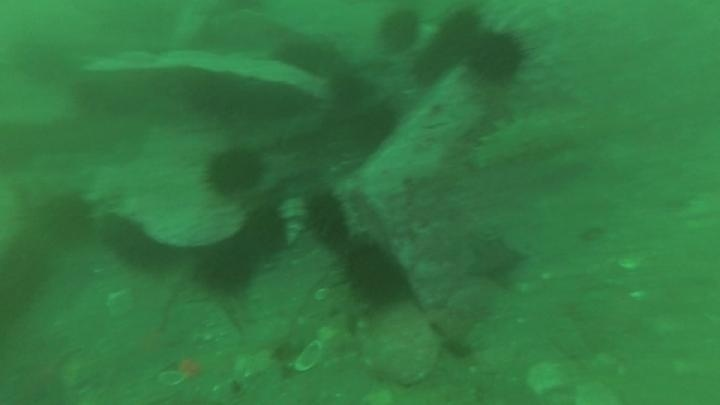echinus: (340, 241, 408, 308), (101, 211, 173, 272), (194, 239, 258, 297), (410, 26, 469, 88), (466, 28, 528, 85), (202, 145, 266, 199), (39, 192, 95, 245), (240, 204, 290, 258), (302, 190, 350, 245), (273, 38, 333, 80), (350, 103, 399, 153), (435, 7, 485, 56), (376, 7, 423, 54), (326, 69, 371, 112)
holothurian: (467, 112, 579, 172), (338, 187, 377, 245)
scallop: (359, 303, 440, 389)
starfish: (464, 232, 528, 288)
